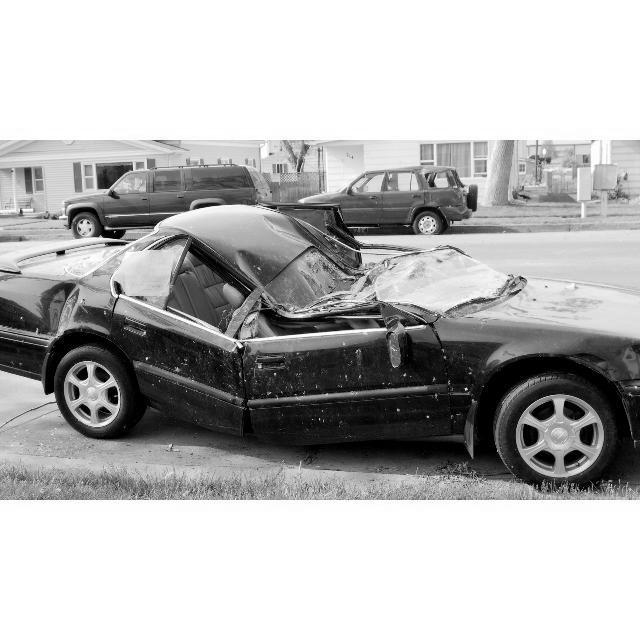Front-windscreen-damage: (384, 244, 501, 306)
doorouter-dent: (245, 335, 423, 440)
quaterpanel-dent: (7, 274, 111, 332)
roof-dent: (191, 212, 385, 314)
